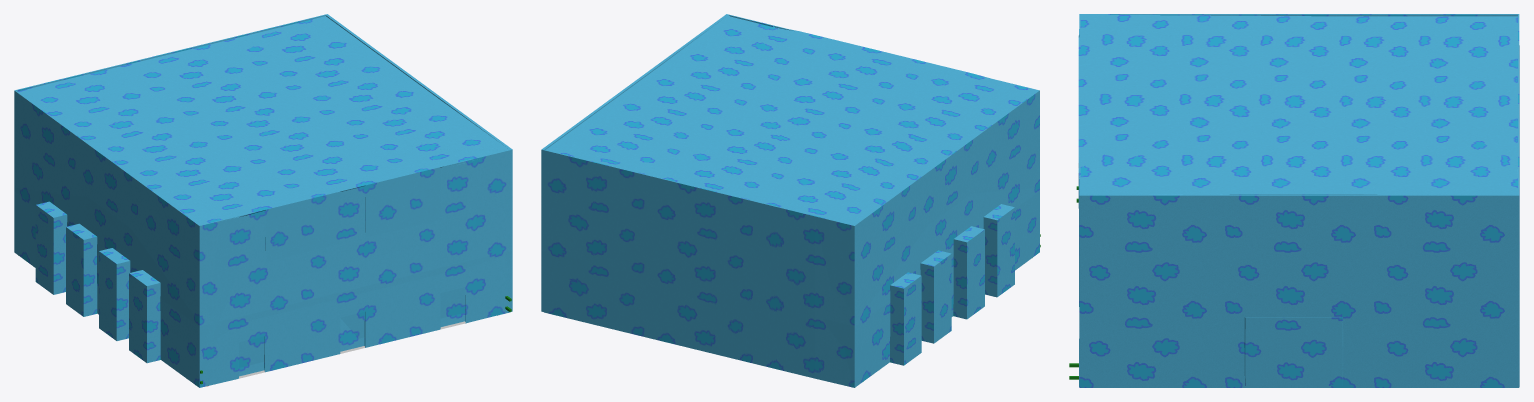
File: cookie map.fbx
3 views of the same model, side by side, from view 1: azimuth 30°, elevation 25°; view 2: azimuth 150°, elevation 25°; view 3: azimuth 270°, elevation 25° (orthographic). The views are drawn at different scales.
Parts seen in each view (by area): view 1: PAREDES, VALLAS; view 2: PAREDES, VALLAS; view 3: PAREDES.
Boxes of the visible parts, <box> form: PAREDES: <box>14,14,512,387</box>; VALLAS: <box>18,201,511,386</box>; PAREDES: <box>541,14,1039,387</box>; VALLAS: <box>890,204,1040,365</box>; PAREDES: <box>1078,14,1519,387</box>.
Size of the model in its own units: 211 by 103 by 211.
